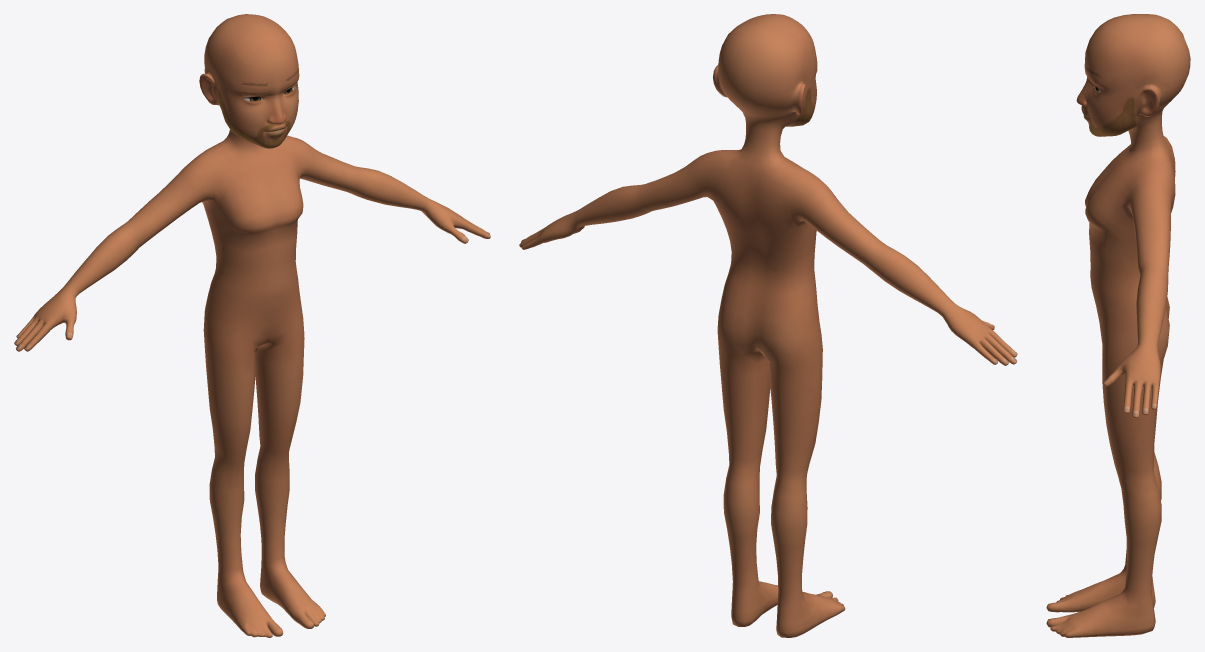
File: frame_0011.glb
The picture shows the model from 3 angles, left to right: view 1: azimuth 30°, elevation 25°; view 2: azimuth 150°, elevation 25°; view 3: azimuth 270°, elevation 25°; orthographic projection. The views are drawn at different scales.
Parts seen in each view (by area): view 1: frame_0011_head_geo; view 2: frame_0011_head_geo; view 3: frame_0011_head_geo.
Part boxes in pixels (left/top/right/bottom): frame_0011_head_geo: left=14, top=14, right=490, bottom=637; frame_0011_head_geo: left=519, top=14, right=1017, bottom=637; frame_0011_head_geo: left=1046, top=14, right=1190, bottom=637.
Size of the model in its own units: 1.28 by 1.5 by 0.3253.
Materials: 3 (3 with a texture image).
